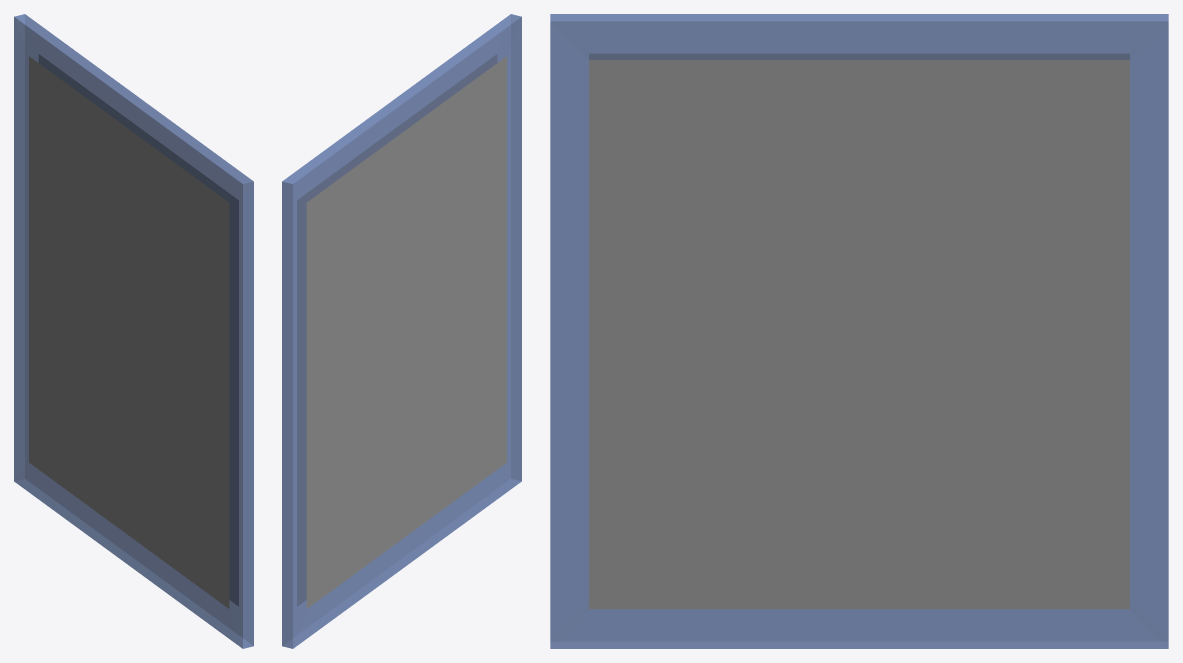
File: tech_skärm.fbx
3 renders of one model, left to right at view 1: azimuth 30°, elevation 25°; view 2: azimuth 150°, elevation 25°; view 3: azimuth 270°, elevation 25°, orthographic. The views are drawn at different scales.
Visible parts, largest first — view 1: pCube42; view 2: pCube42; view 3: pCube42.
Boxes of the visible parts, box(x1,y1,x2,y2) form: pCube42: box(14, 14, 253, 648); pCube42: box(282, 14, 521, 648); pCube42: box(550, 14, 1168, 648).
Size of the model in its own units: 4.6 by 186 by 166.
